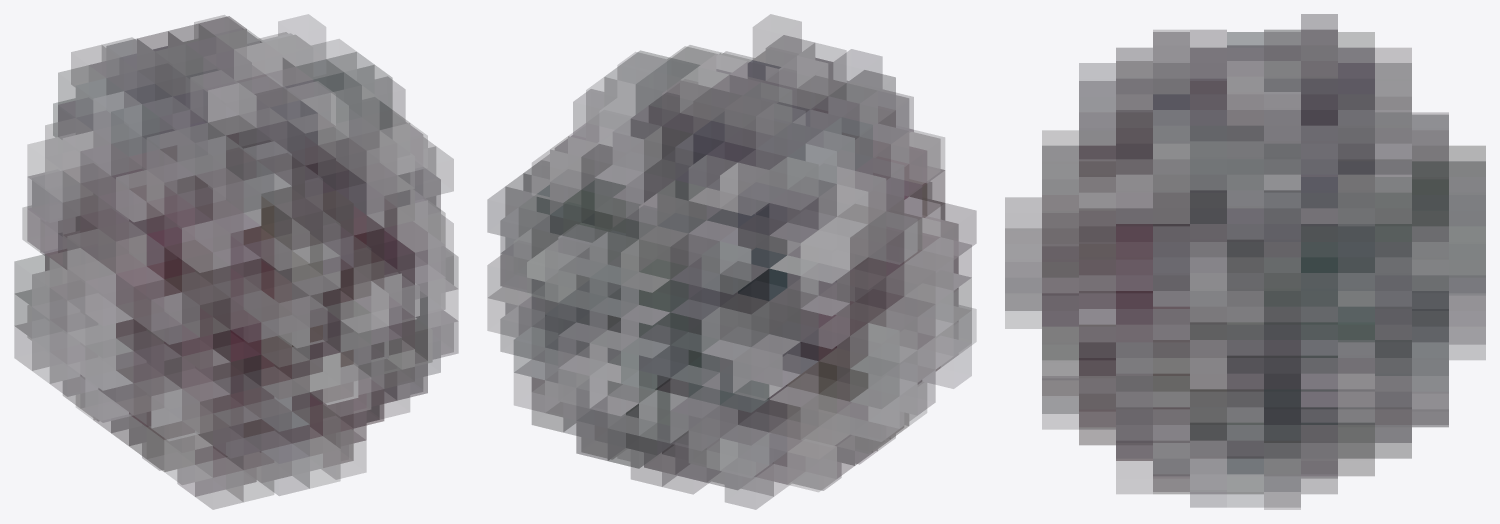
Rendered from iter_15.obj.
3 renders of one model, left to right at view 1: azimuth 30°, elevation 25°; view 2: azimuth 150°, elevation 25°; view 3: azimuth 270°, elevation 25°, orthographic. The views are drawn at different scales.
Visible parts, largest first — view 1: iter_15; view 2: iter_15; view 3: iter_15.
Part boxes in pixels (x1,y1,x2,y2): iter_15: (14, 14, 458, 509); iter_15: (487, 14, 976, 509); iter_15: (1005, 14, 1485, 509).
Size of the model in its own units: 1.2 by 1.2 by 1.3.
